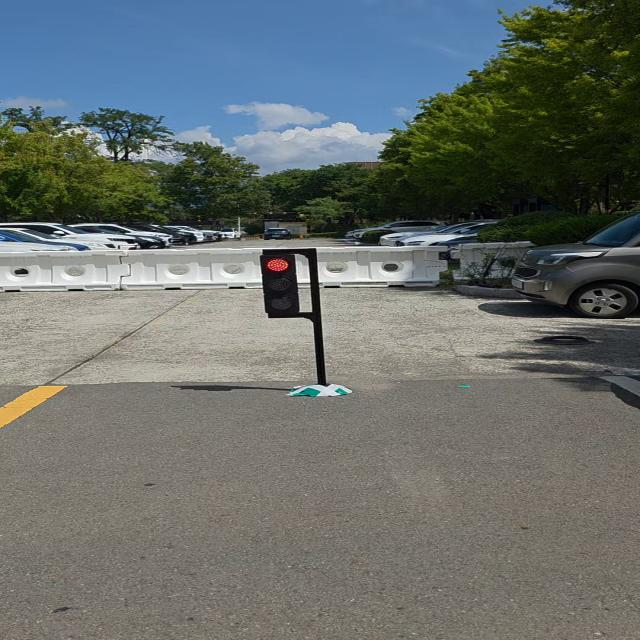red: (256, 251, 305, 317)
